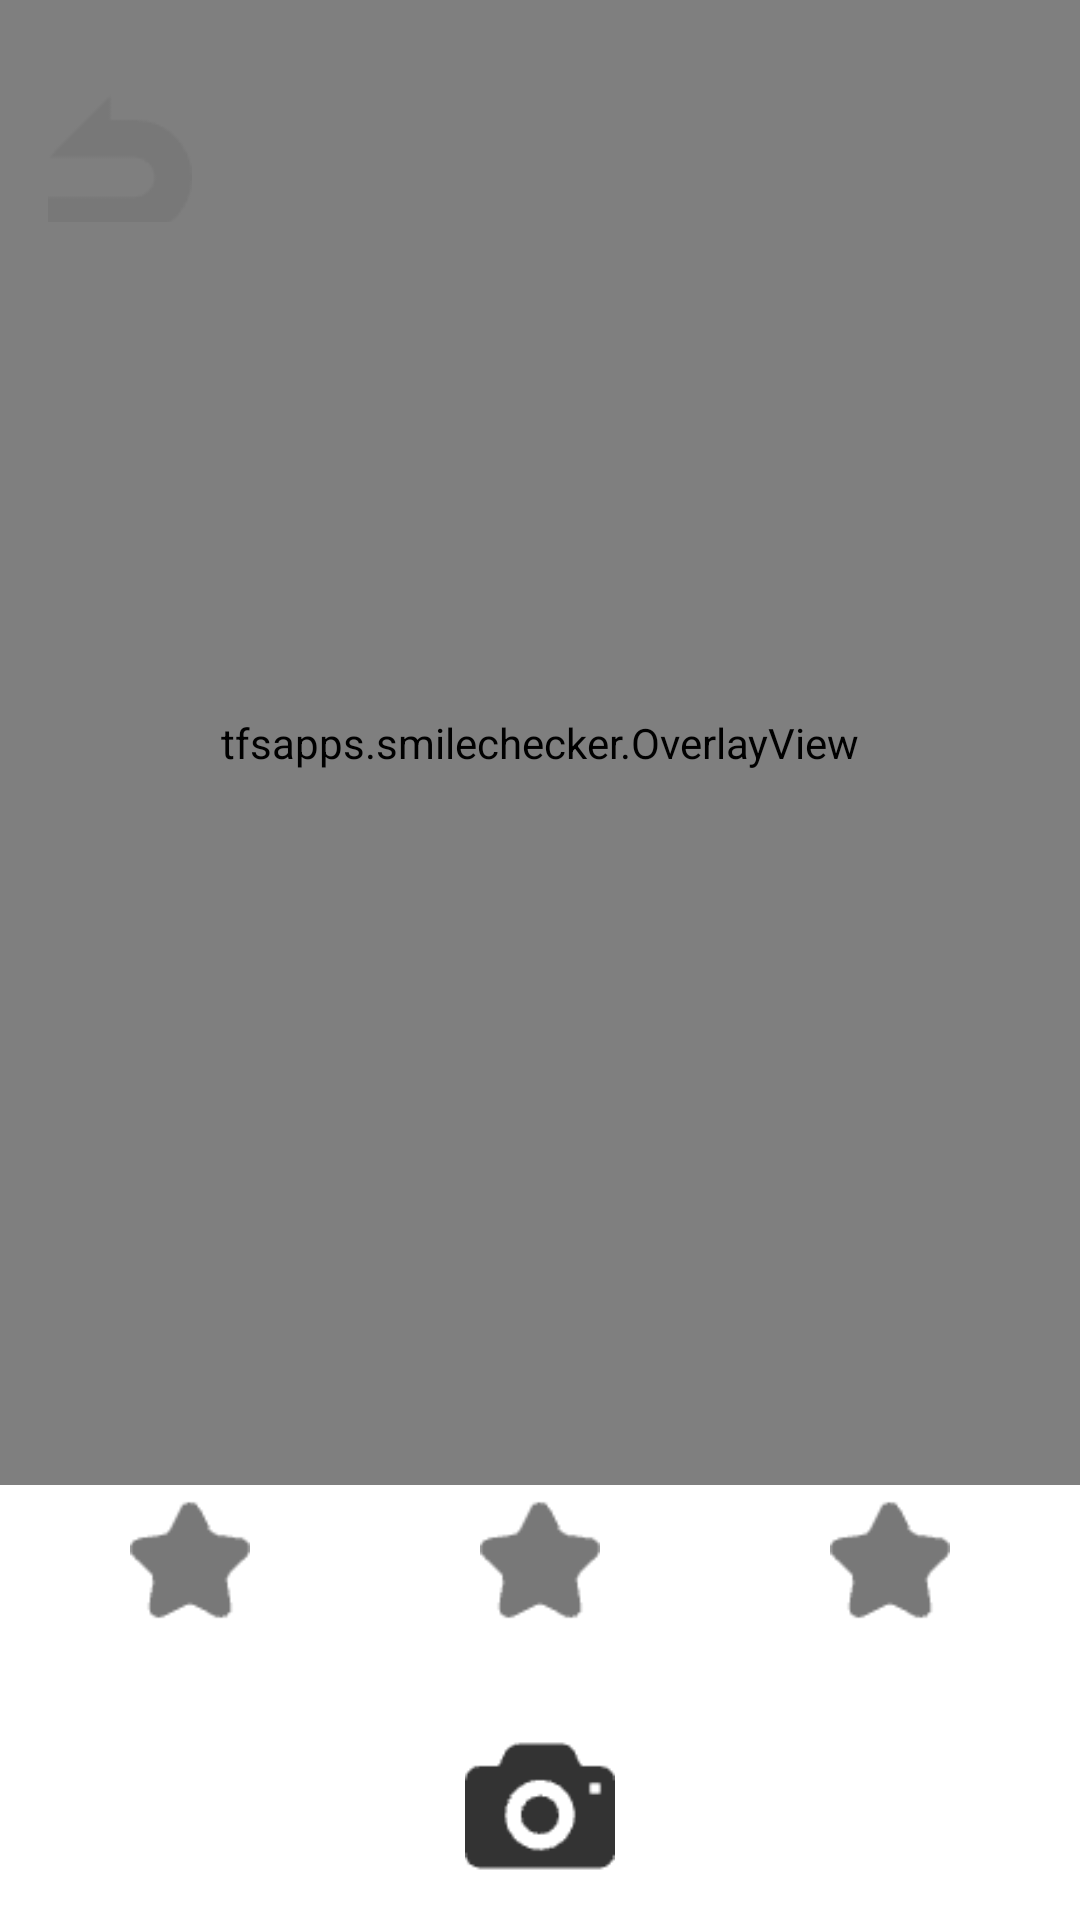

Point at icon controls on the screen. Image size 1080px x 1920px, points as point (x, y).
camera: point (540, 1806)
star ng: point (190, 1560), point (540, 1560), point (890, 1560)
